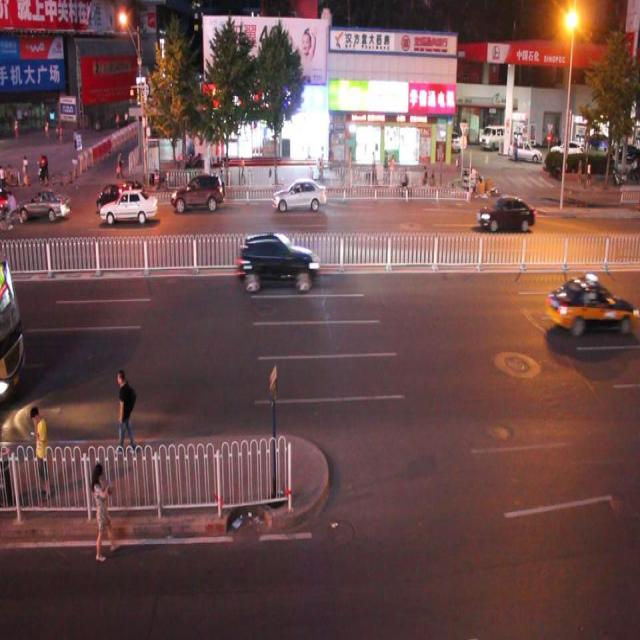car: (545, 276, 640, 337), (236, 232, 319, 288), (270, 175, 326, 216), (170, 171, 223, 211), (477, 195, 534, 232), (100, 188, 158, 224), (18, 186, 71, 224), (101, 180, 145, 223)
